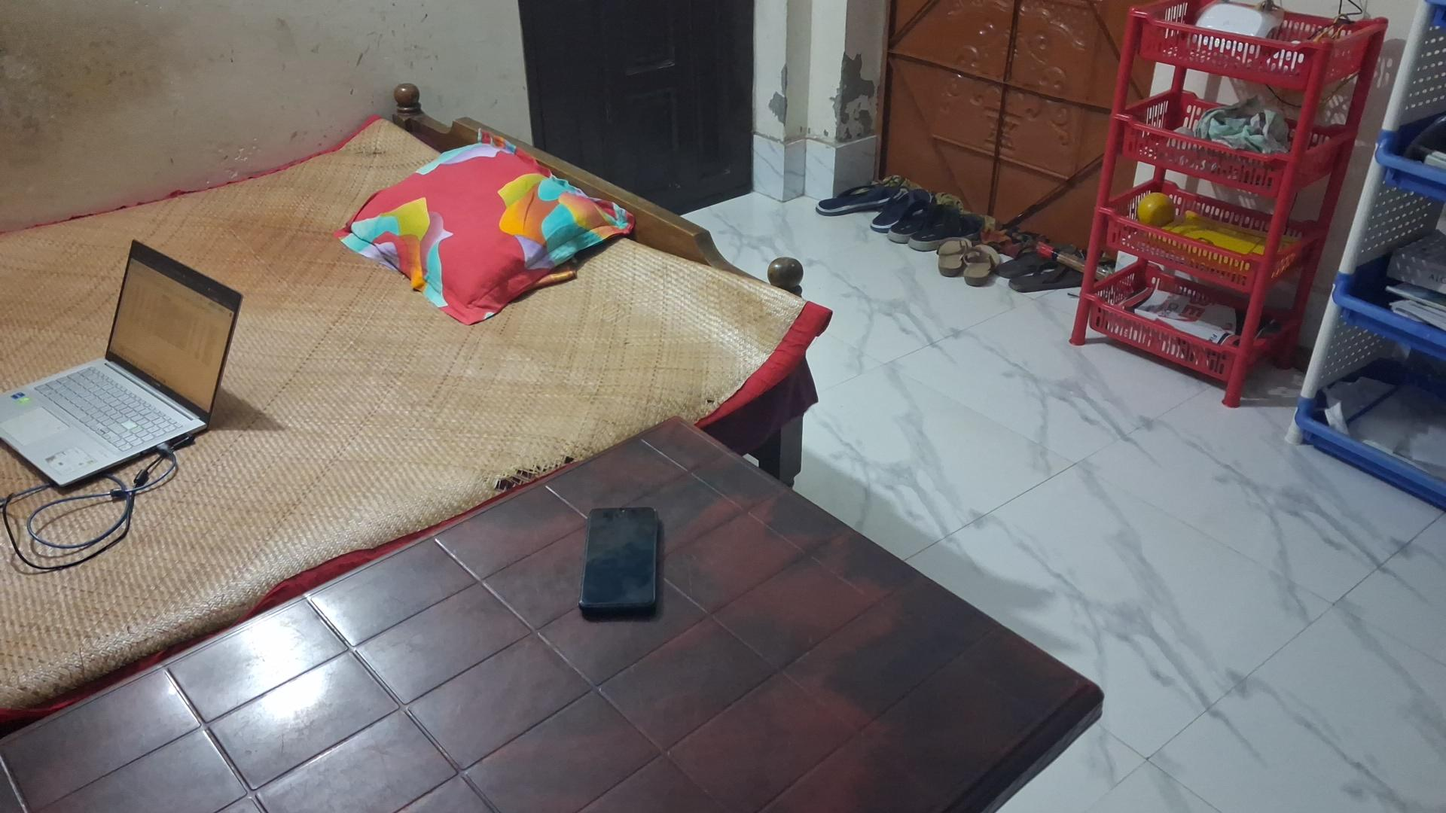Footwear: (815, 182, 931, 231), (888, 203, 986, 249), (936, 238, 999, 285)
Laptop: (0, 238, 246, 488)
Phone: (580, 504, 664, 615)
Pillow: (339, 143, 639, 315)
Rack: (1068, 3, 1387, 406)
Table: (0, 411, 1104, 813)
